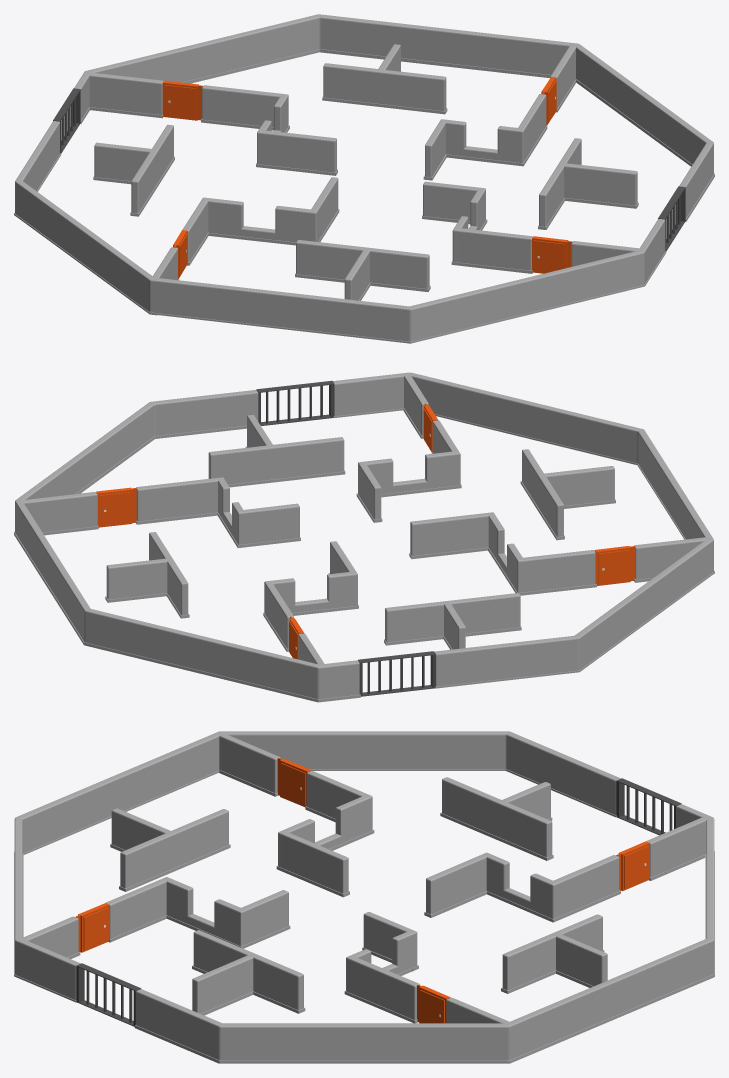
The model's file is level 13.FBX.
The picture shows the model from 3 angles, top to bottom: view 1: azimuth 30°, elevation 25°; view 2: azimuth 150°, elevation 25°; view 3: azimuth 270°, elevation 25°; orthographic projection. The views are drawn at different scales.
Visible parts, largest first — view 1: obj_047, tijiao, obj_088, obj_0100, obj_6570, obj_079; view 2: obj_047, tijiao, obj_094, obj_0106, obj_079, obj_6570; view 3: obj_047, tijiao, obj_0100, obj_088, obj_6570, obj_0106, obj_079, obj_094.
Part boxes in pixels (x1,y1,x2,y2): obj_047: [15, 14, 713, 341]; tijiao: [14, 49, 714, 343]; obj_088: [162, 80, 198, 120]; obj_0100: [532, 236, 568, 273]; obj_6570: [658, 186, 685, 251]; obj_079: [53, 88, 80, 153]; obj_047: [15, 372, 713, 699]; tijiao: [14, 408, 714, 702]; obj_094: [96, 487, 132, 527]; obj_0106: [594, 546, 630, 585]; obj_079: [358, 651, 435, 696]; obj_6570: [256, 380, 334, 425]; obj_047: [14, 731, 714, 1060]; tijiao: [14, 769, 714, 1063]; obj_0100: [78, 903, 109, 952]; obj_088: [618, 841, 649, 891]; obj_6570: [76, 963, 141, 1026]; obj_0106: [280, 758, 311, 806]; obj_079: [616, 778, 681, 835]; obj_094: [419, 985, 450, 1023].
Size of the model in its own units: 19.19 by 1.14 by 19.19.
